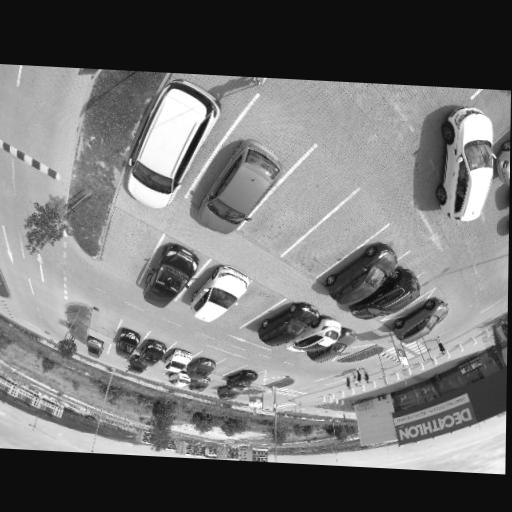busy: (129, 80, 213, 212), (428, 99, 504, 228), (199, 141, 287, 236), (328, 245, 398, 308), (188, 265, 251, 323), (145, 245, 201, 309), (354, 270, 420, 320), (257, 302, 313, 347), (392, 302, 442, 345), (291, 321, 336, 354), (311, 340, 349, 365), (114, 328, 142, 360), (140, 338, 167, 366), (164, 347, 192, 373), (226, 370, 256, 390), (189, 357, 216, 379), (86, 338, 107, 361), (217, 388, 241, 402), (126, 359, 148, 374), (166, 373, 189, 387), (186, 379, 209, 392)
free: (267, 189, 319, 228), (111, 230, 149, 261), (311, 230, 349, 255), (237, 298, 263, 315), (90, 313, 113, 332), (108, 353, 127, 364), (215, 363, 229, 373), (150, 367, 164, 375)
